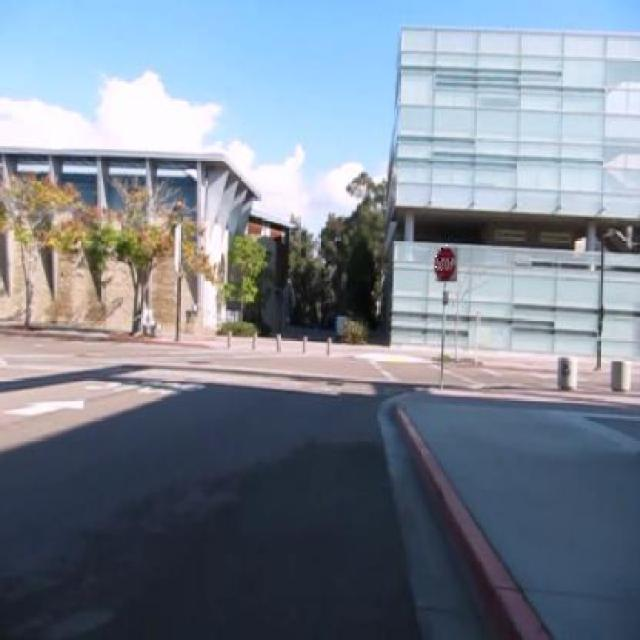stop: (434, 244, 456, 280)
